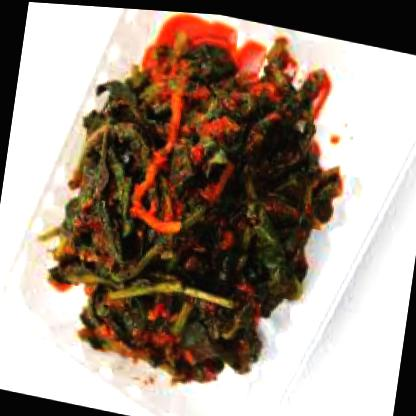young radish Kimchi: (41, 19, 328, 393)
